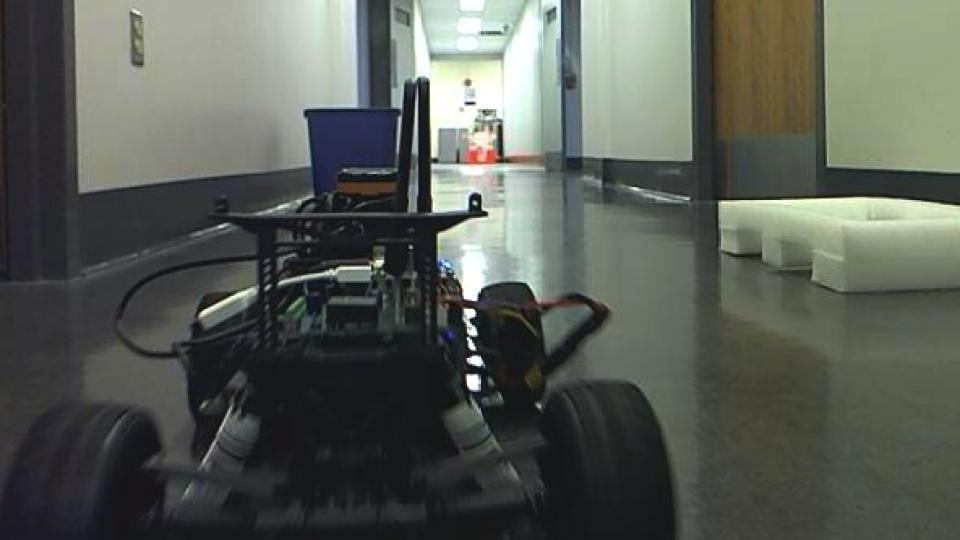car: (0, 75, 679, 540)
